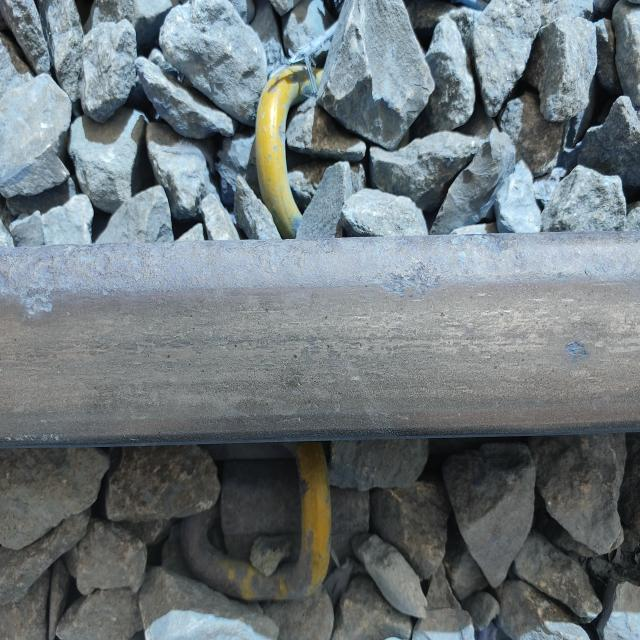Good Fasteners: (180, 442, 369, 601), (255, 61, 318, 239)
